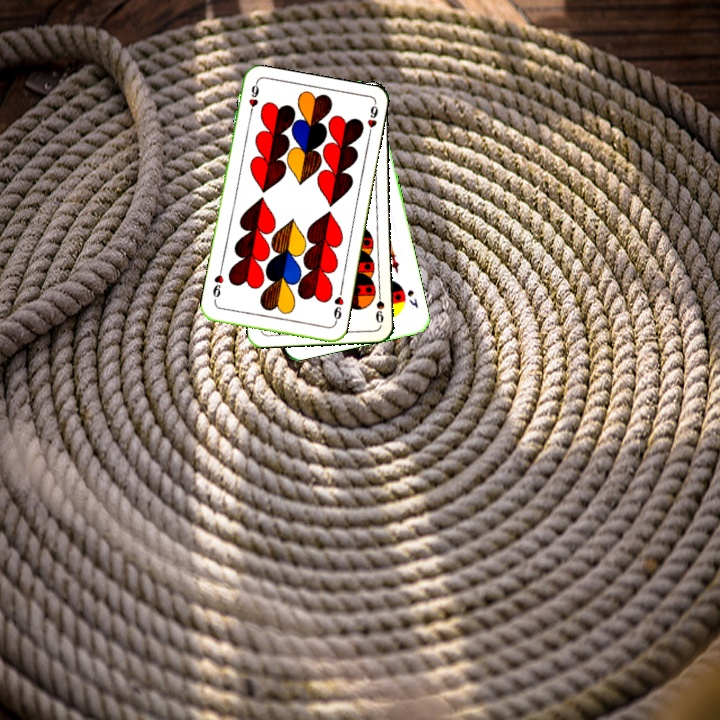H9: (330, 286, 346, 327), (245, 80, 261, 120)
S9: (371, 285, 387, 325)
SK: (403, 286, 421, 311)
